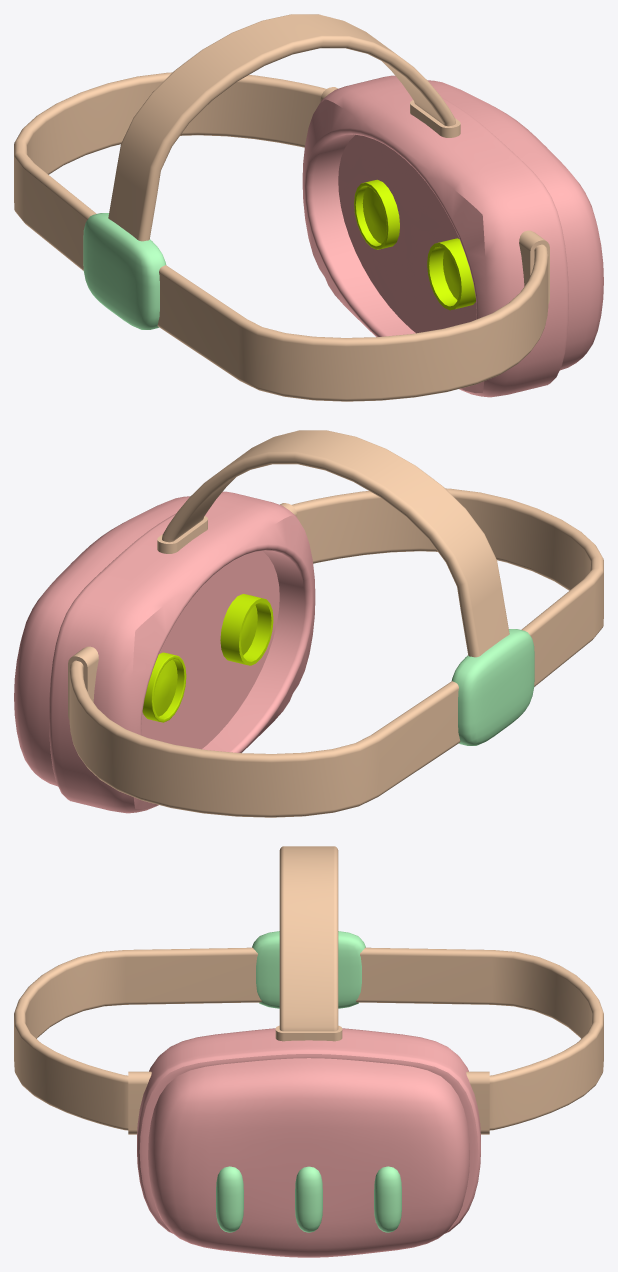
The model's file is Sonar.fbx.
3 renders of one model, top to bottom at view 1: azimuth 30°, elevation 25°; view 2: azimuth 150°, elevation 25°; view 3: azimuth 270°, elevation 25°, orthographic. The views are drawn at different scales.
Parts seen in each view (by area): view 1: Sonar_Main, Sonar_Bandage, Sonar_Bandage1, Sonar_Back, Sonar_Glass; view 2: Sonar_Main, Sonar_Bandage, Sonar_Bandage1, Sonar_Back, Sonar_Glass; view 3: Sonar_Main, Sonar_Bandage, Sonar_Bandage1, Sonar_Front, Sonar_Back.
Part boxes in pixels (x1,y1,x2,y2): Sonar_Main: (302,75,603,397); Sonar_Bandage: (14,72,549,401); Sonar_Bandage1: (108,14,460,241); Sonar_Back: (83,213,166,329); Sonar_Glass: (354,179,475,310); Sonar_Main: (14,491,315,813); Sonar_Bandage: (68,488,603,817); Sonar_Bandage1: (157,430,509,657); Sonar_Back: (451,629,534,745); Sonar_Glass: (142,594,273,722); Sonar_Main: (137,1028,480,1257); Sonar_Bandage: (14,947,603,1134); Sonar_Bandage1: (275,846,342,1041); Sonar_Front: (216,1166,401,1232); Sonar_Back: (252,931,365,1008).
Bounding box in the file's own units: 14.33 × 11.54 × 19.75.
